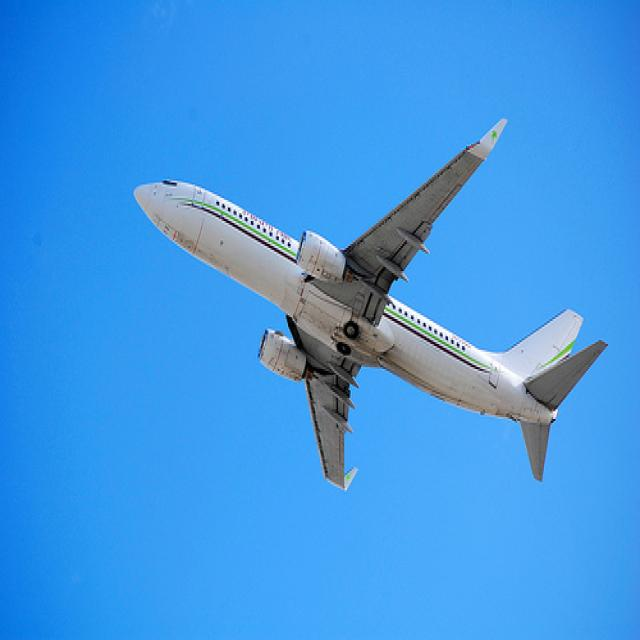aeroplane: (133, 116, 609, 493)
